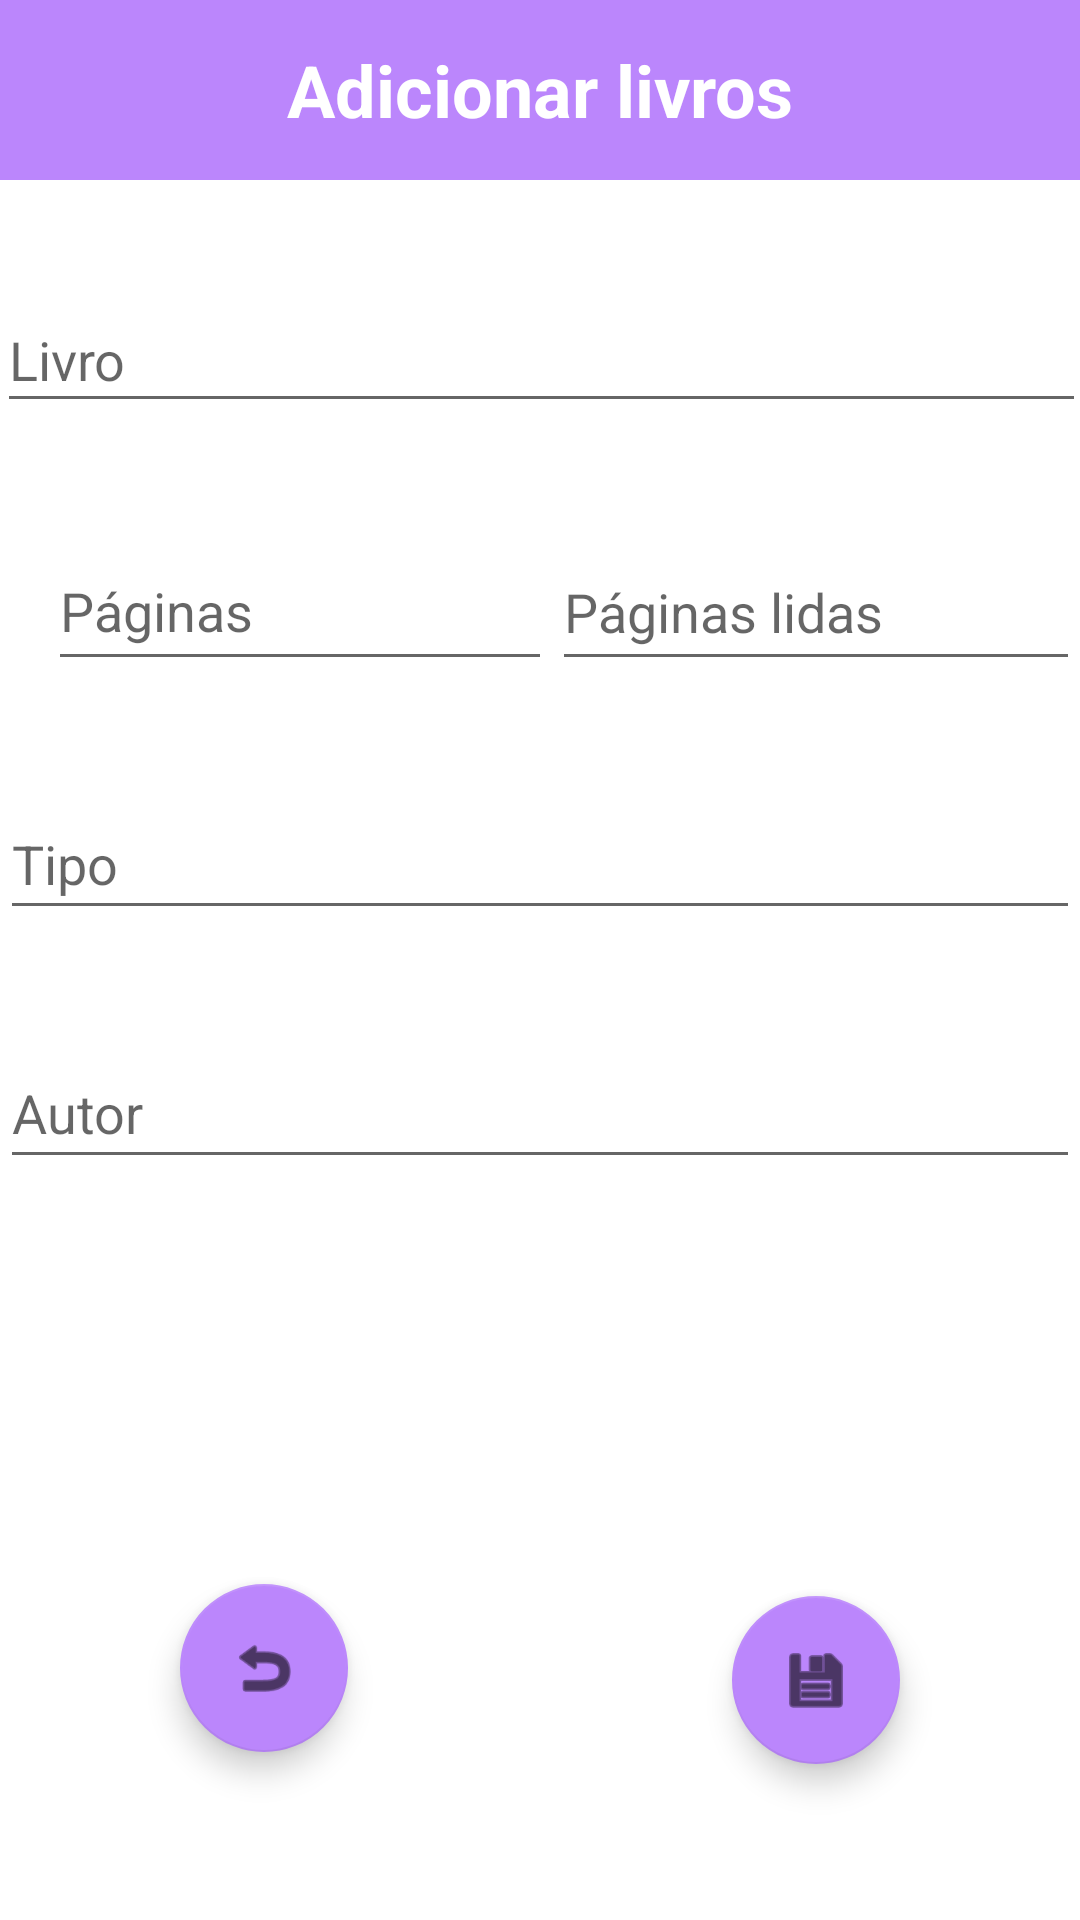

Named icons in this screenshot (1080x1920) and their centers, [x,y]:
revert: [264,1668]
save: [816,1680]
